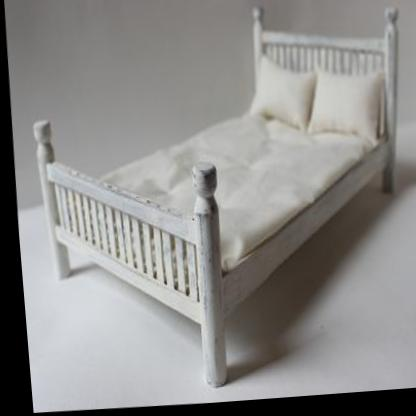Bed: (18, 1, 416, 404)
